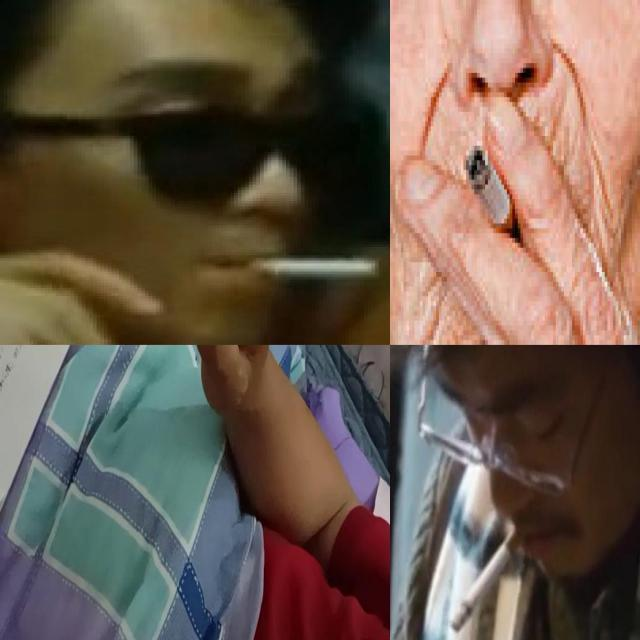smoking: (448, 516, 530, 634), (463, 142, 520, 242), (234, 258, 382, 282)
